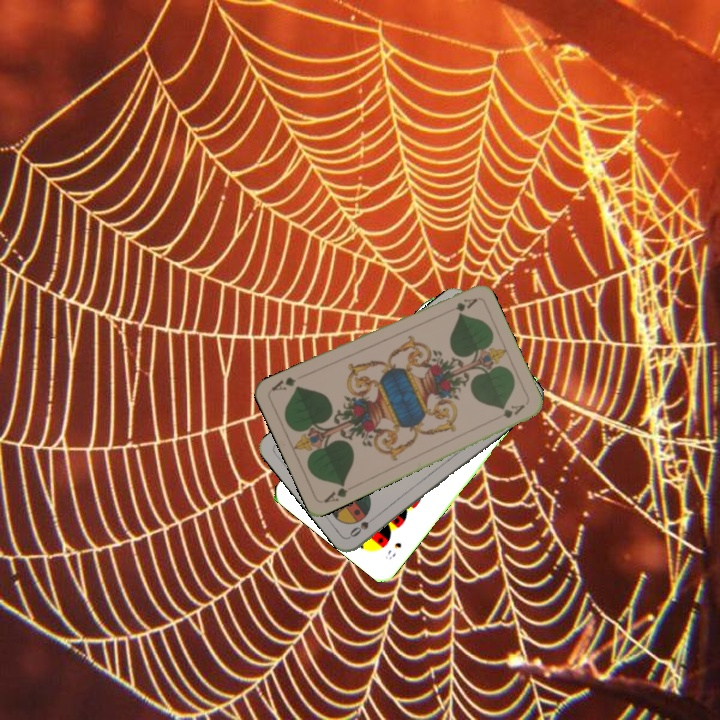GA: (440, 294, 479, 317), (320, 479, 351, 506)
S8: (381, 538, 404, 562)
SO: (345, 510, 381, 540)
